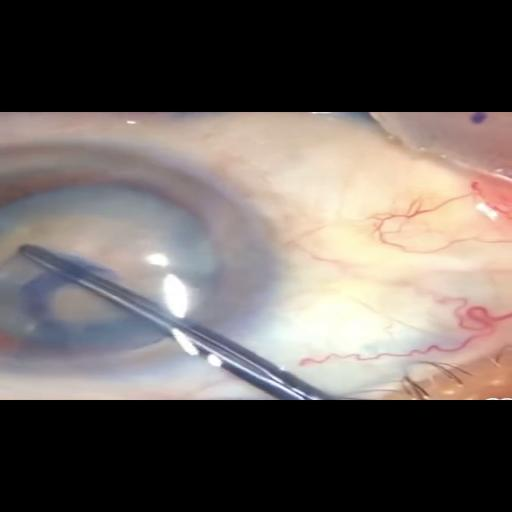catarata: (0, 184, 224, 349)
cornea: (0, 142, 279, 381)
pupil: (0, 167, 240, 360)
